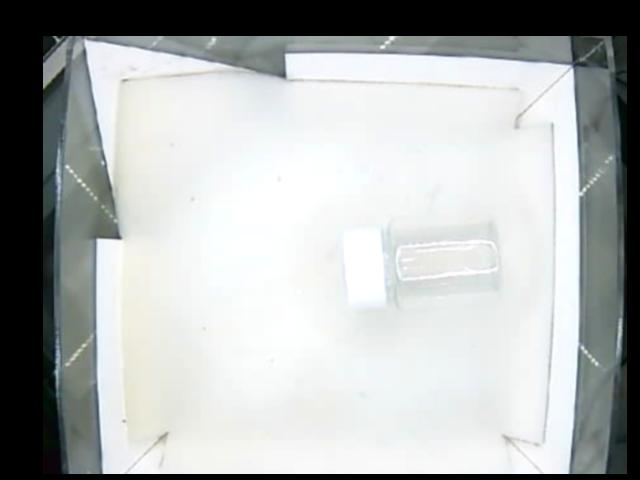Bottle: (341, 221, 503, 316)
